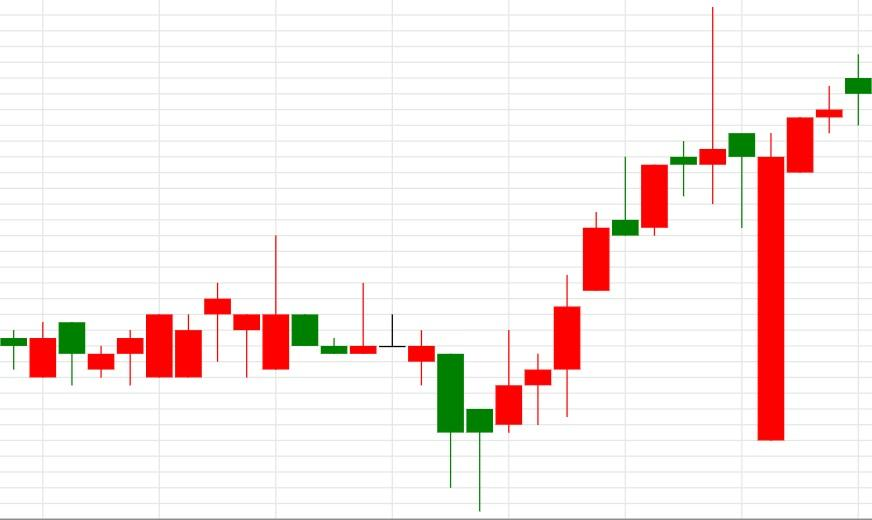hammer_rise: (204, 235, 494, 512)
